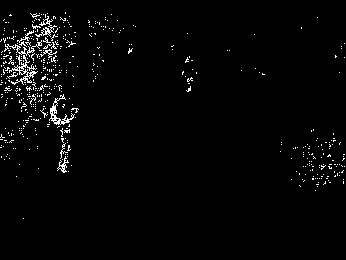person: (48, 92, 78, 174)
